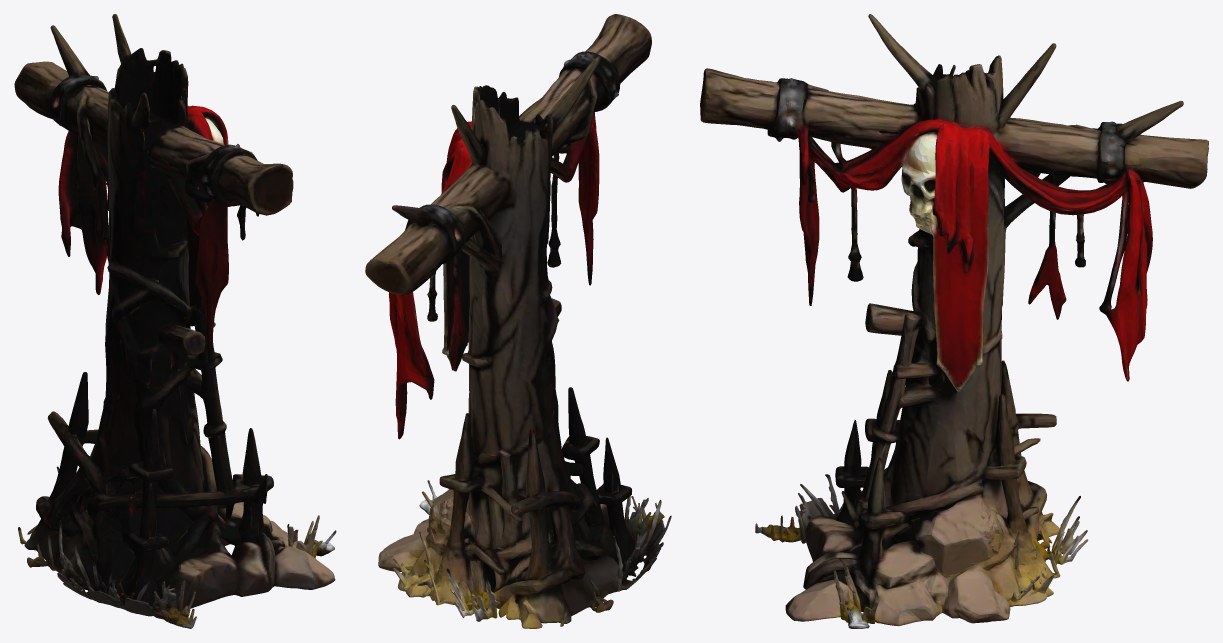
The model's file is orc_war_banner_01.glb.
3 renders of one model, left to right at view 1: azimuth 30°, elevation 25°; view 2: azimuth 150°, elevation 25°; view 3: azimuth 270°, elevation 25°, orthographic. The views are drawn at different scales.
Visible parts, largest first — view 1: geometry_0; view 2: geometry_0; view 3: geometry_0.
Boxes of the visible parts, box(x1,y1,x2,y2) form: geometry_0: box(14, 14, 336, 628); geometry_0: box(365, 14, 671, 628); geometry_0: box(700, 14, 1208, 628).
Size of the model in its own units: 0.5187 by 1 by 0.8722.
Materials: 1 (1 with a texture image).
